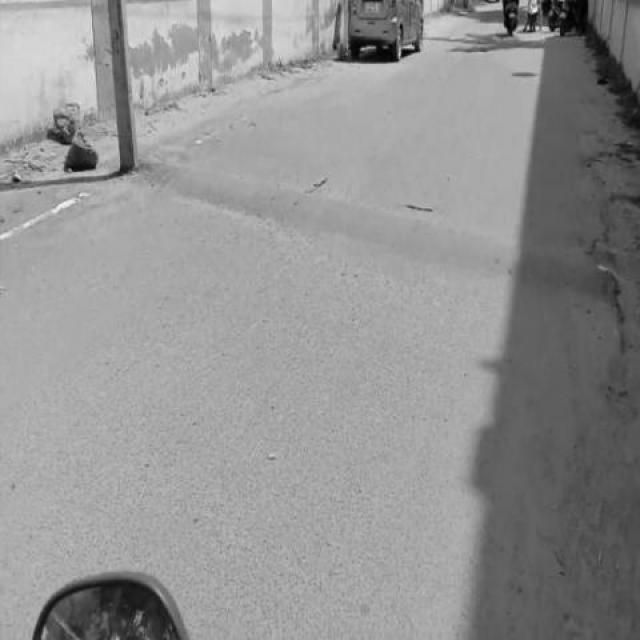Unmarked Bump: (136, 153, 622, 288)
